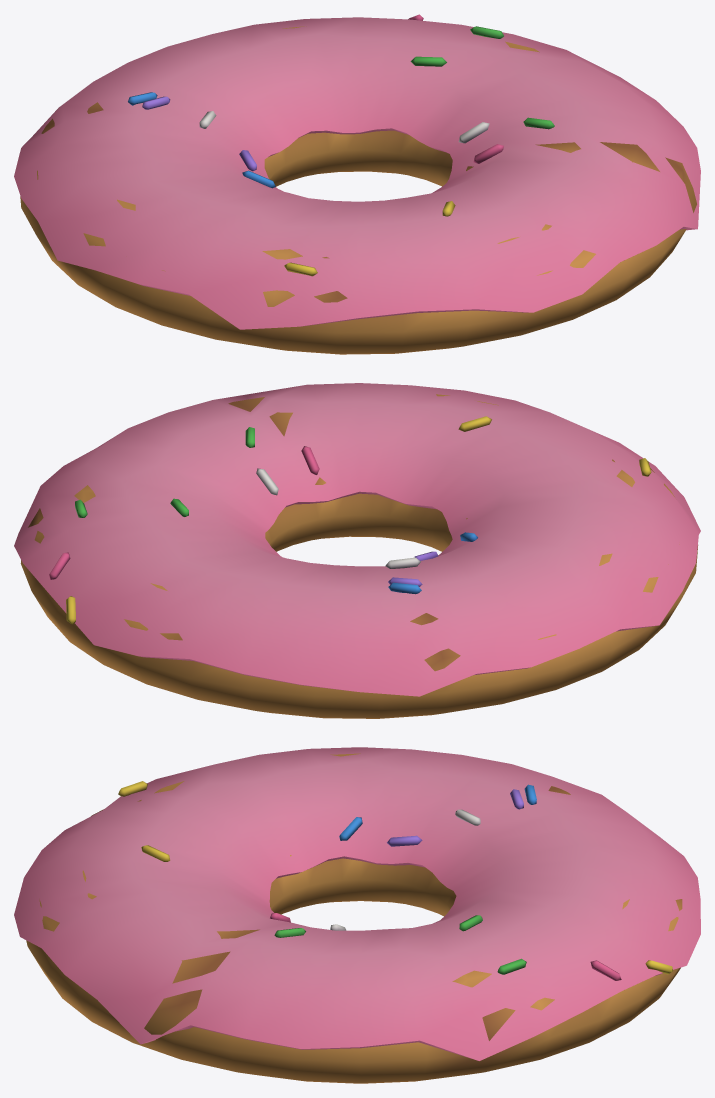
File: giant_donut.glb
3 views of the same model, one above another, from view 1: azimuth 30°, elevation 25°; view 2: azimuth 150°, elevation 25°; view 3: azimuth 270°, elevation 25° (orthographic).
Visible parts, largest first — view 1: body; view 2: body; view 3: body.
Boxes of the visible parts, x1=… form: body: x1=14, y1=14, x2=700, y2=354; body: x1=14, y1=383, x2=700, y2=718; body: x1=14, y1=747, x2=700, y2=1083.
Size of the model in its own units: 1.3 by 0.25 by 1.3.
